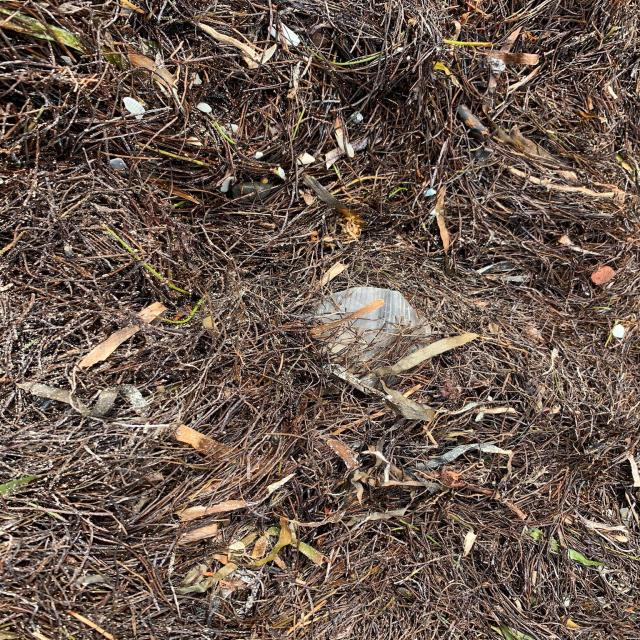litter: (315, 280, 441, 381)
